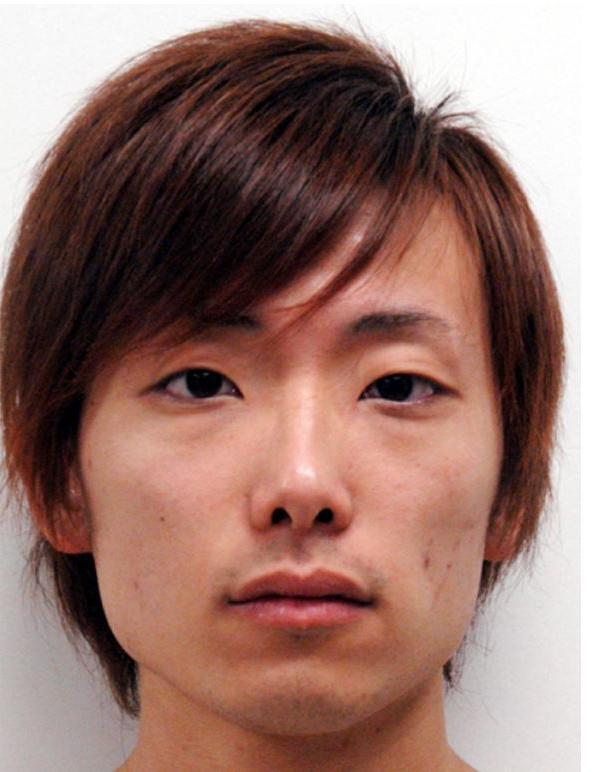Sober: (94, 212, 484, 703)
